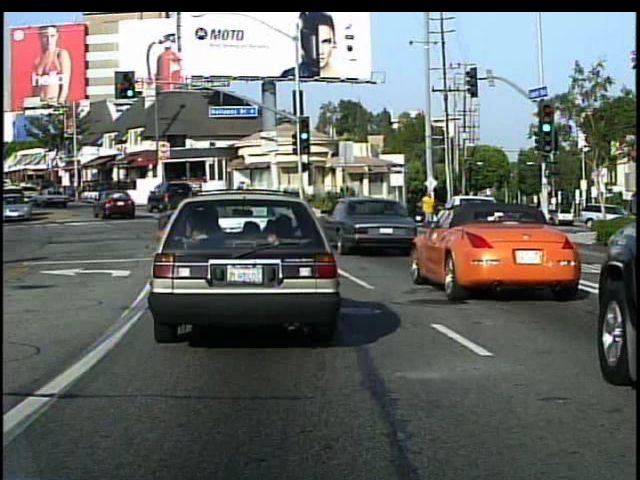person: (419, 188, 438, 227), (403, 188, 421, 229)
